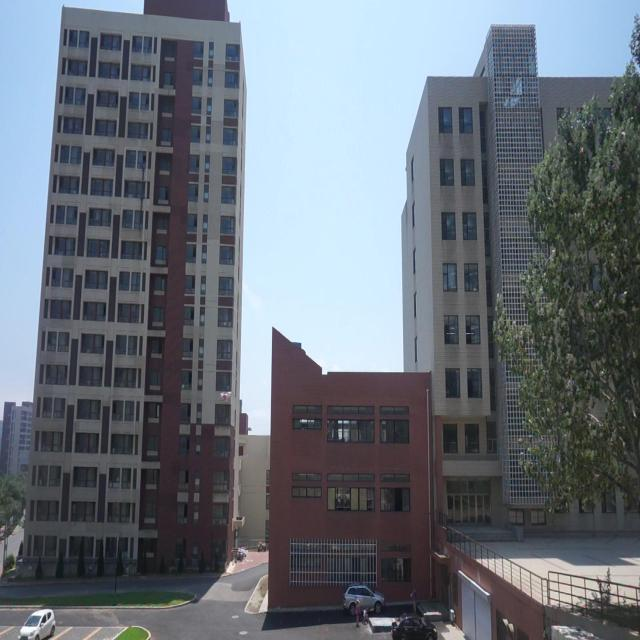drone: (218, 384, 232, 407)
